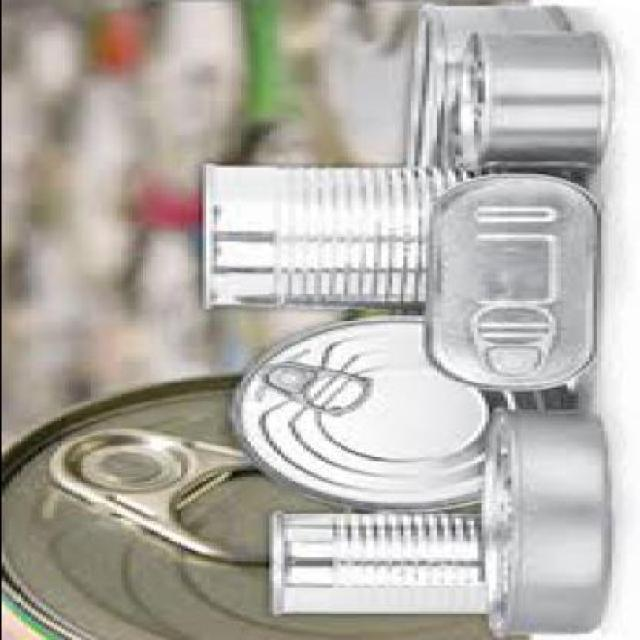METAL: (2, 377, 529, 638), (227, 318, 573, 514), (193, 168, 565, 314), (417, 176, 598, 395), (398, 4, 573, 170), (483, 412, 603, 638), (446, 30, 614, 175), (268, 514, 487, 618)
